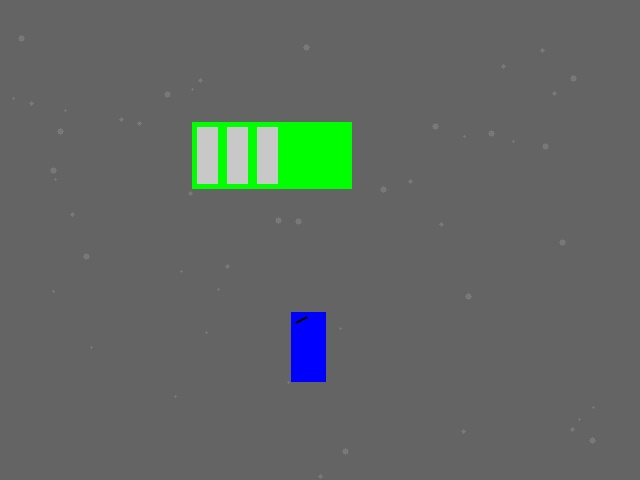bus: (192, 122, 351, 188)
motorcycle: (291, 312, 325, 381)
